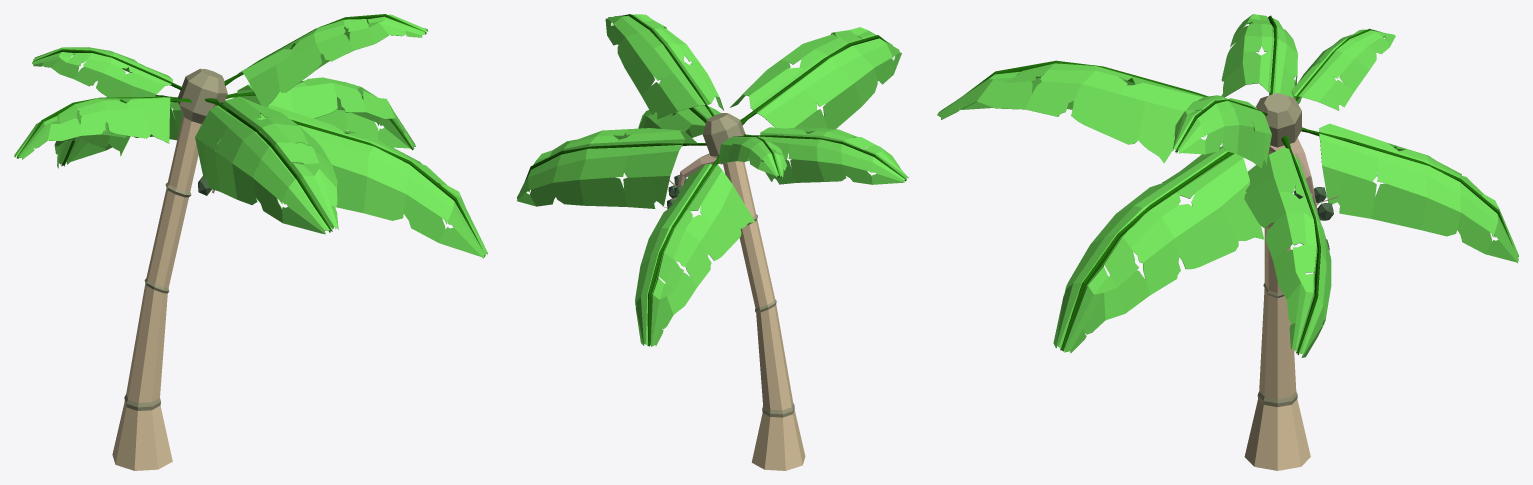
The model's file is PalmTree.glb.
3 renders of one model, left to right at view 1: azimuth 30°, elevation 25°; view 2: azimuth 150°, elevation 25°; view 3: azimuth 270°, elevation 25°, orthographic. The views are drawn at different scales.
Parts seen in each view (by area): view 1: Leaf.001, PalmTree, Leaf, Leaf.003, Leaf.002, Leaf.004, Leaf.006, Leaf.005; view 2: Leaf.005, Leaf.001, Leaf.002, PalmTree, Leaf.003, Leaf.004, Leaf.006, Leaf, GreenBranch; view 3: Leaf, Leaf.005, Leaf.001, Leaf.002, PalmTree, Leaf.003, Leaf.004, Leaf.006, GreenBranch.
Part boxes in pixels (left/top/right/bottom): Leaf.001: left=195, top=96, right=338, bottom=234; PalmTree: left=112, top=68, right=227, bottom=470; Leaf: left=221, top=102, right=487, bottom=258; Leaf.003: left=224, top=14, right=428, bottom=107; Leaf.002: left=226, top=77, right=415, bottom=150; Leaf.004: left=14, top=97, right=191, bottom=159; Leaf.006: left=32, top=47, right=182, bottom=97; Leaf.005: left=54, top=95, right=182, bottom=168; Leaf.005: left=635, top=155, right=754, bottom=346; Leaf.001: left=730, top=27, right=901, bottom=128; Leaf.002: left=517, top=128, right=706, bottom=208; PalmTree: left=702, top=113, right=805, bottom=470; Leaf.003: left=605, top=14, right=723, bottom=119; Leaf.004: left=743, top=127, right=908, bottom=184; Leaf.006: left=718, top=136, right=786, bottom=178; Leaf: left=638, top=105, right=749, bottom=161; GreenBranch: left=662, top=153, right=720, bottom=208; Leaf: left=1053, top=130, right=1264, bottom=353; Leaf.005: left=1301, top=123, right=1518, bottom=263; Leaf.001: left=937, top=60, right=1207, bottom=163; Leaf.002: left=1244, top=135, right=1331, bottom=357; PalmTree: left=1244, top=93, right=1310, bottom=470; Leaf.003: left=1172, top=95, right=1271, bottom=168; Leaf.004: left=1221, top=14, right=1297, bottom=97; Leaf.006: left=1291, top=28, right=1395, bottom=110; GreenBranch: left=1269, top=138, right=1338, bottom=250.
Size of the model in its own units: 21.75 by 21.04 by 24.79.
